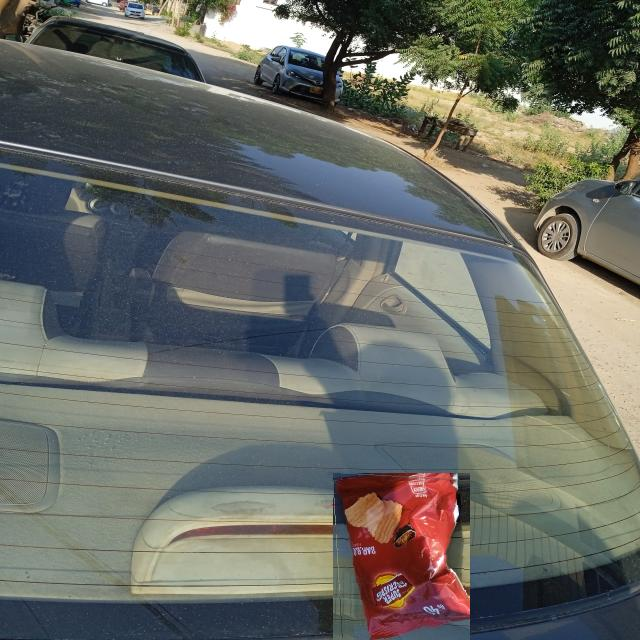Plastic: (332, 472, 470, 640)
